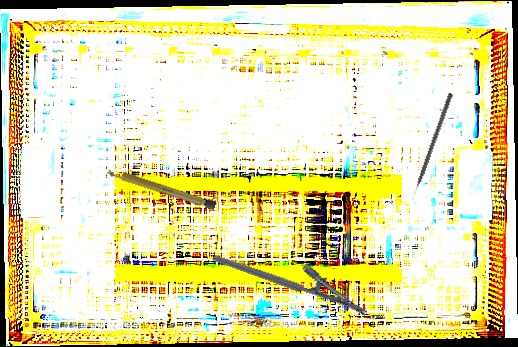Needle Holder: (211, 233, 376, 317)
Pusher: (408, 92, 454, 202)
Scalpel Handle: (106, 166, 217, 211)
